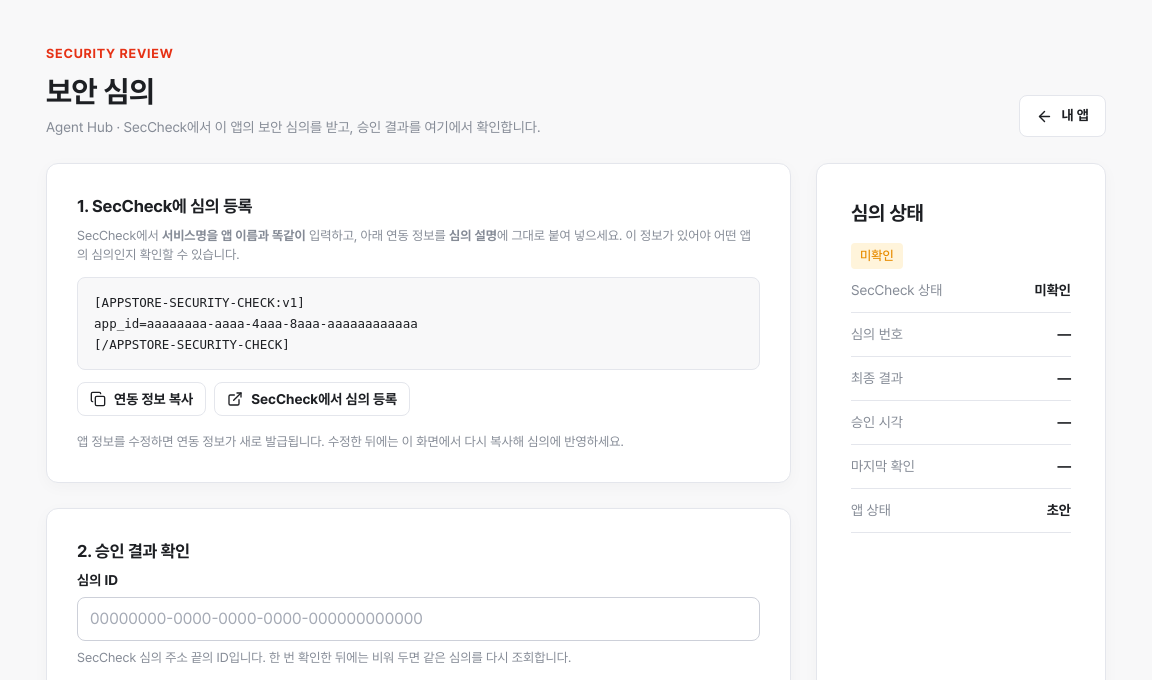
Scenario: App security check › explains why a review was refused
Expected: the text "APPSTORE-SECURITY-CHECK" is shown, left=94, top=295, right=418, bottom=352
Type "cccccccc-cccc-4ccc-8ccc-cccccccccccc" into the field labelled "심의 ID".
click(418, 619); type("cccccccc-cccc-4ccc-8ccc-cccccccccccc")  # box left=77, top=597, right=760, bottom=641
(page scrolled)
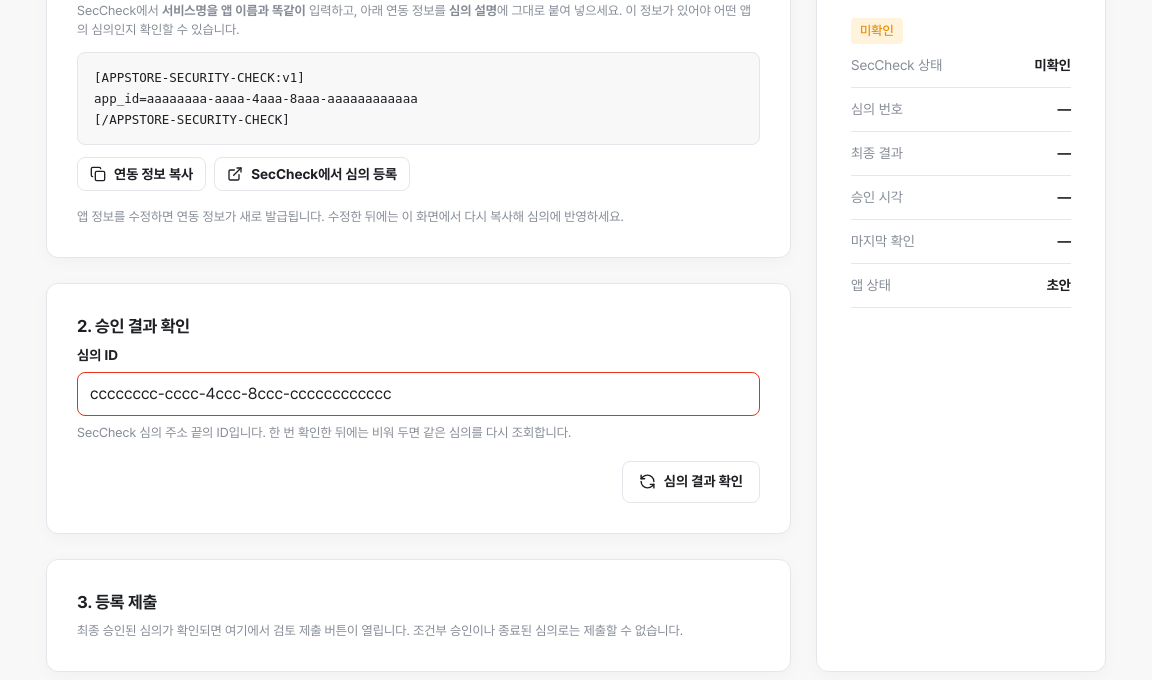
Click the button "심의 결과 확인".
click(691, 482)  # box left=622, top=461, right=760, bottom=503
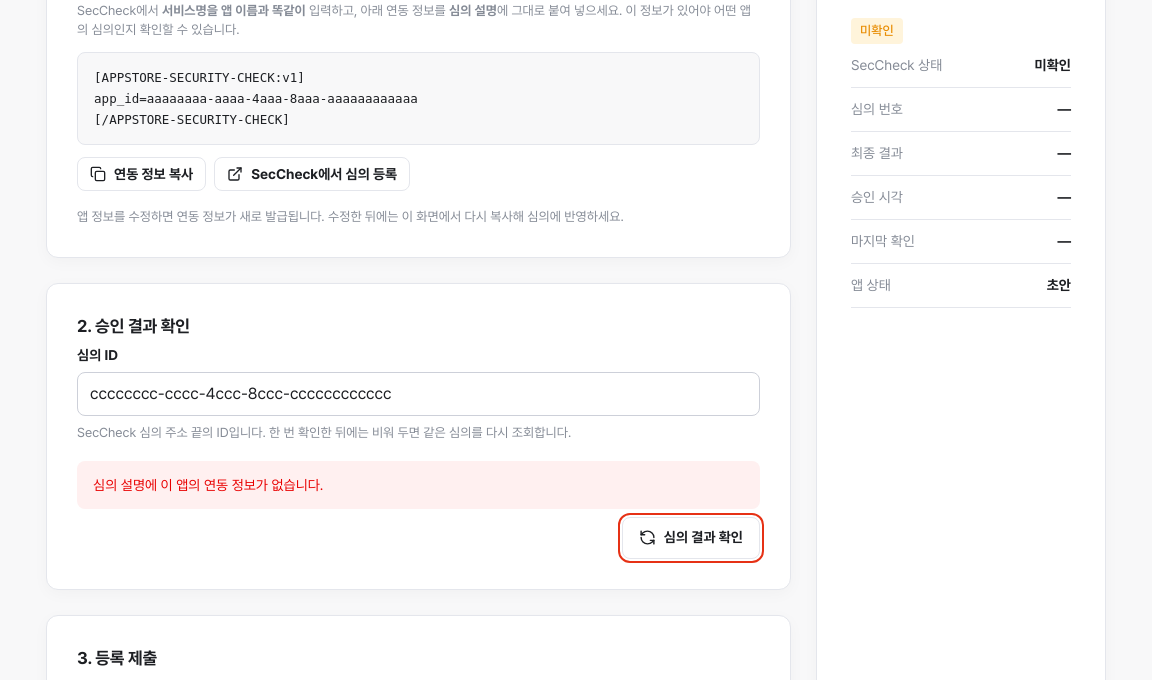
Result: the message shows "연동 정보가 없습니다" at left=93, top=477, right=323, bottom=493
